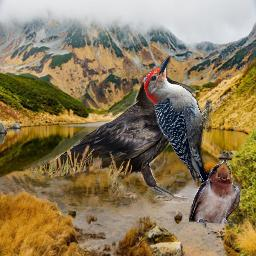Crow: (23, 73, 196, 203)
Swallow: (189, 159, 241, 228)
Woodpecker: (140, 56, 212, 186)
